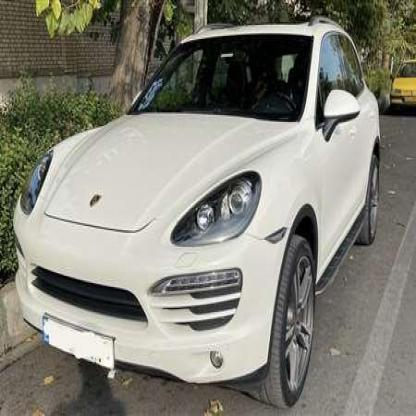Car: (10, 19, 386, 408), (393, 62, 416, 110)
